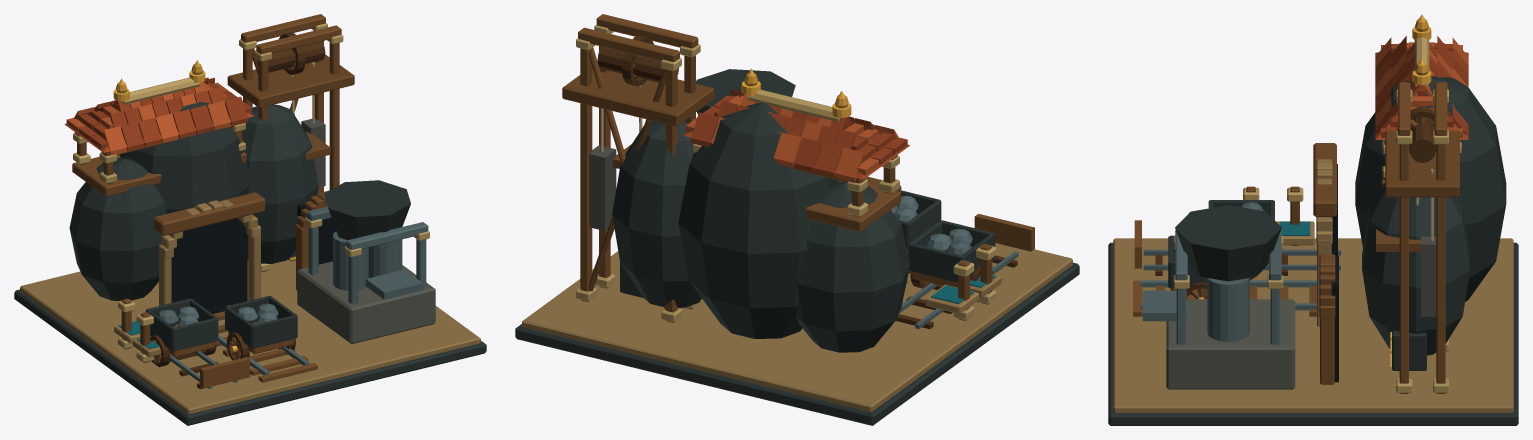
3 views of the same model, side by side, from view 1: azimuth 30°, elevation 25°; view 2: azimuth 150°, elevation 25°; view 3: azimuth 270°, elevation 25° (orthographic). The views are drawn at different scales.
Visible parts, largest first — view 1: mine_12_structure; view 2: mine_12_structure; view 3: mine_12_structure, mine_12_metal.
Boxes of the visible parts, x1,y1,x2,y2 form: mine_12_structure: (14,14,486,425); mine_12_structure: (515,14,1079,425); mine_12_structure: (1108,19,1518,425); mine_12_metal: (1198,14,1431,369).
Bounding box in the file's own units: 5.6 × 4.3 × 5.6.
